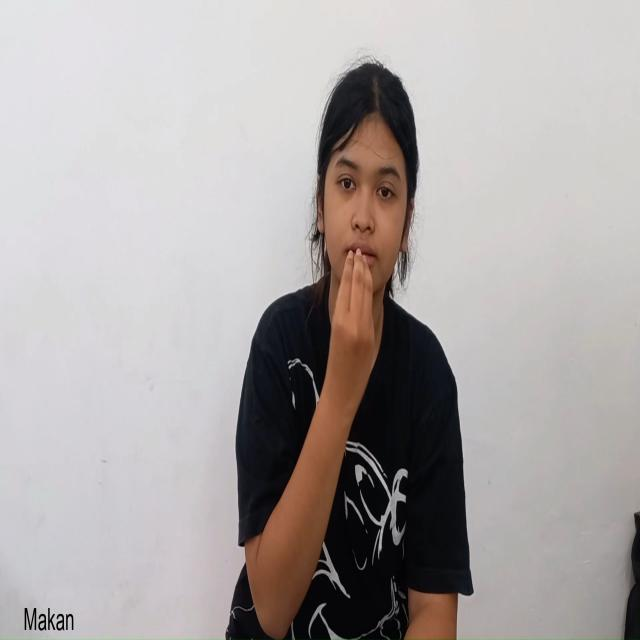Makan -BISINDO-: (304, 50, 422, 450)
